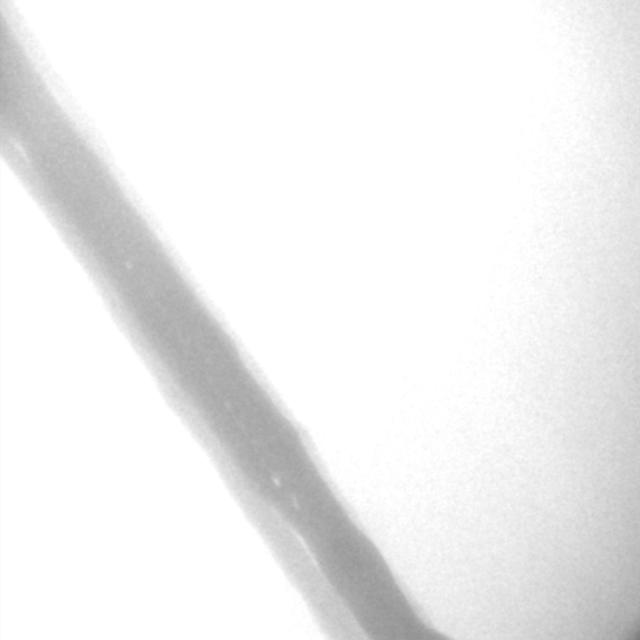air-hole: (294, 498, 299, 507), (272, 475, 277, 483)
broken-arc: (330, 506, 452, 640)
